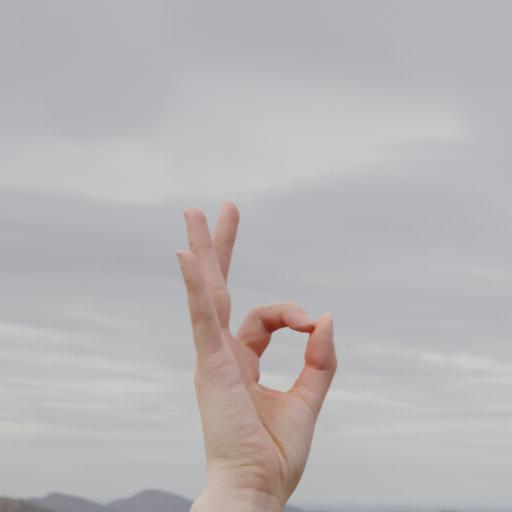F: (166, 197, 349, 509)
